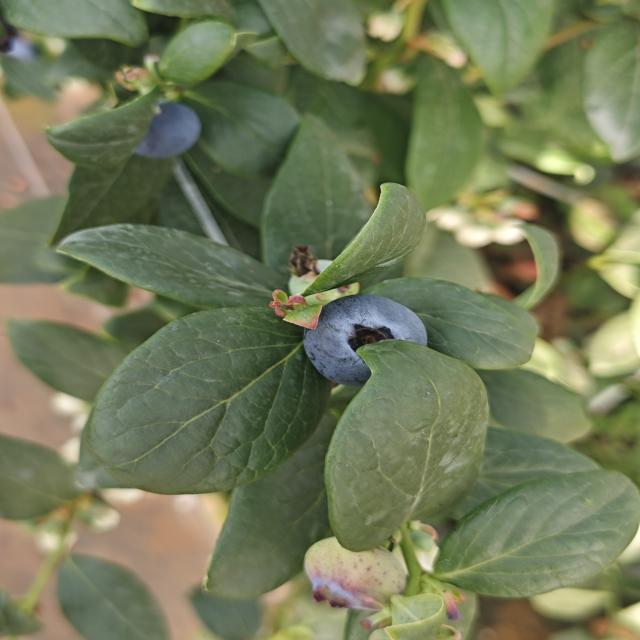ripe: (286, 285, 438, 394), (108, 95, 206, 173)
